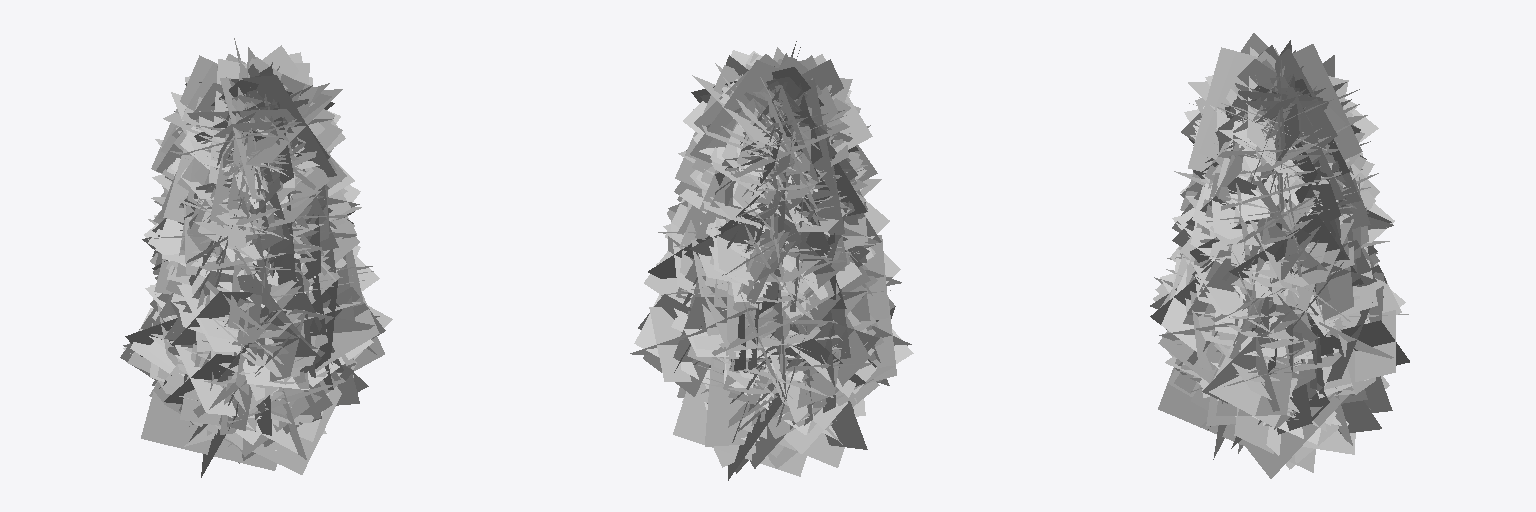
The model's file is Bush_Long_2.obj.
3 renders of one model, left to right at view 1: azimuth 30°, elevation 25°; view 2: azimuth 150°, elevation 25°; view 3: azimuth 270°, elevation 25°, orthographic.
Visible parts, largest first — view 1: Bush_Long_2; view 2: Bush_Long_2; view 3: Bush_Long_2.
Part boxes in pixels (x1,y1,x2,y2): Bush_Long_2: (120, 38, 392, 477); Bush_Long_2: (630, 41, 913, 480); Bush_Long_2: (1150, 33, 1409, 478).
Size of the model in its own units: 1.61 by 2.76 by 1.56.